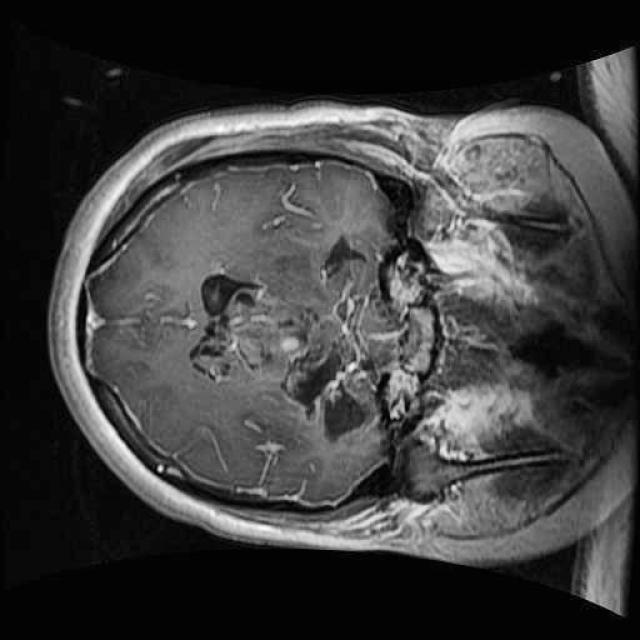Non-Tumor: (180, 251, 408, 452)
